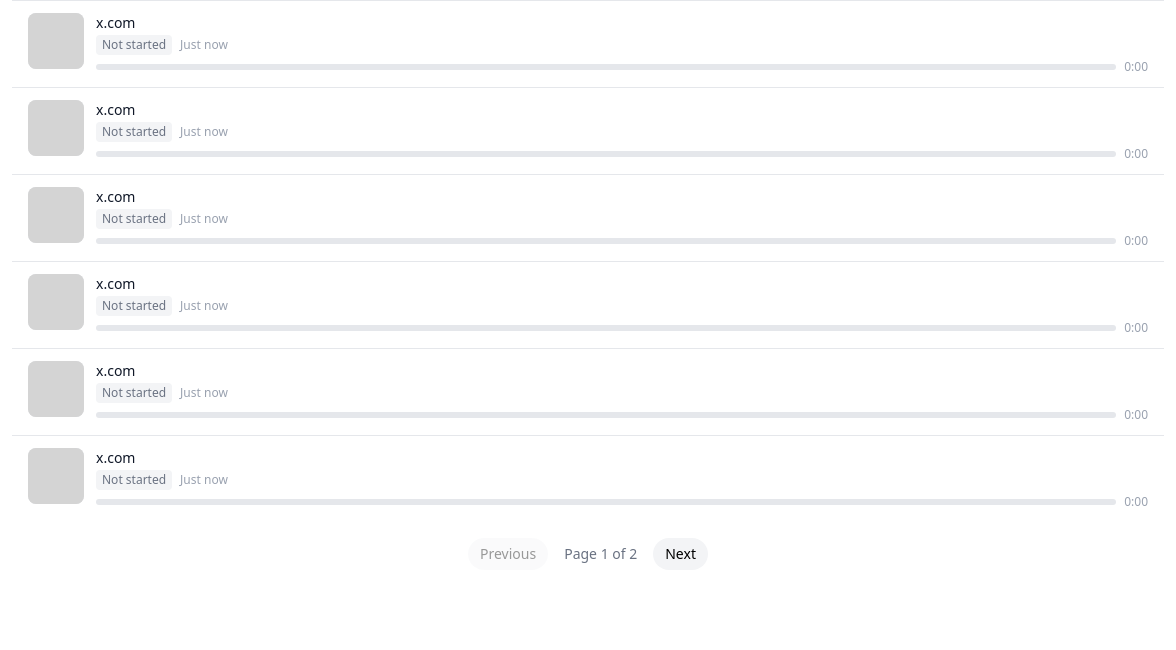
Test: ListeningHistory › pagination › disables Next button on last page
(page scrolled)
Click the button "Next" at (681, 554), box [653,538,708,570]
(page scrolled)
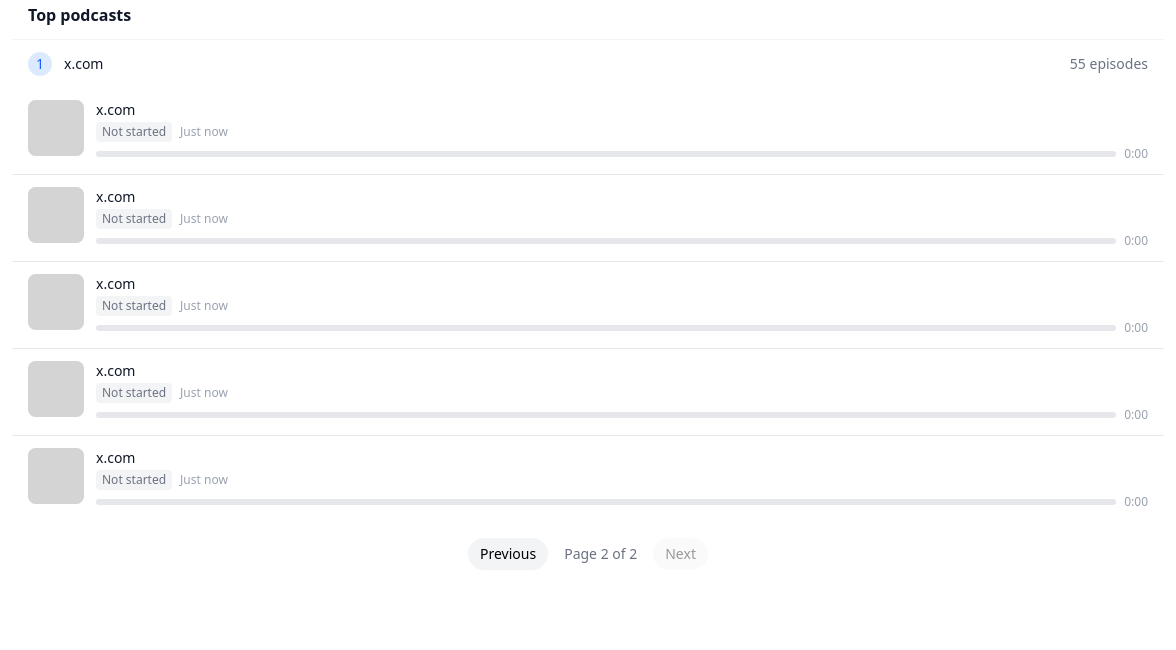
Now the text "Page 2 of 2" is shown, box [564,544,637,564]
Now the button "Next" is disabled, box [653,538,708,570]
